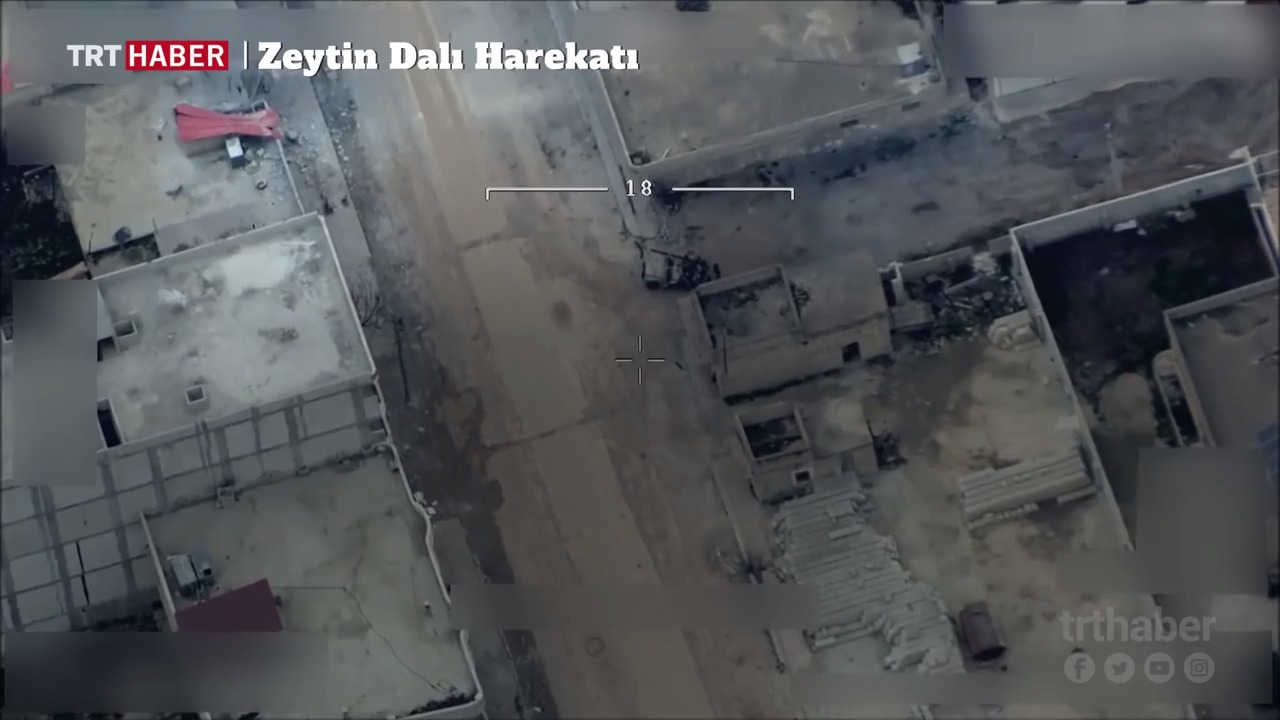arac: (636, 239, 709, 295)
bina: (724, 396, 895, 496), (671, 272, 820, 367)
insan: (711, 256, 727, 277)
